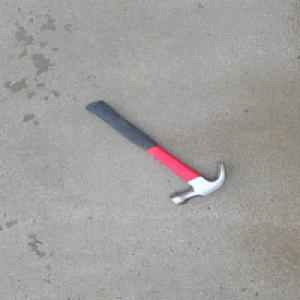Hammer: (83, 99, 227, 206)
